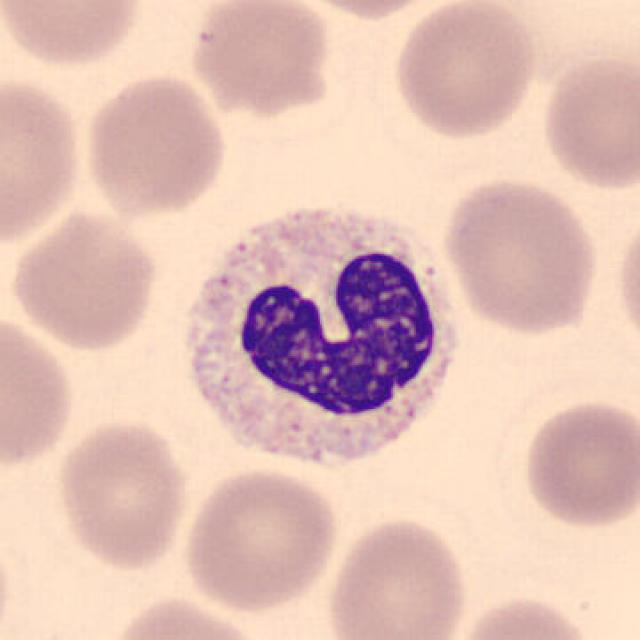Neutrophil: (169, 194, 471, 488)
RBC: (439, 173, 603, 337), (178, 464, 343, 614), (5, 206, 162, 354), (78, 71, 231, 222), (52, 416, 192, 573), (390, 0, 540, 143), (322, 513, 471, 640), (185, 0, 338, 118), (518, 395, 638, 532), (0, 70, 87, 248), (537, 49, 638, 194), (0, 309, 78, 476), (0, 0, 149, 70), (101, 592, 272, 640), (452, 592, 598, 640), (611, 206, 640, 356), (281, 0, 448, 21)
